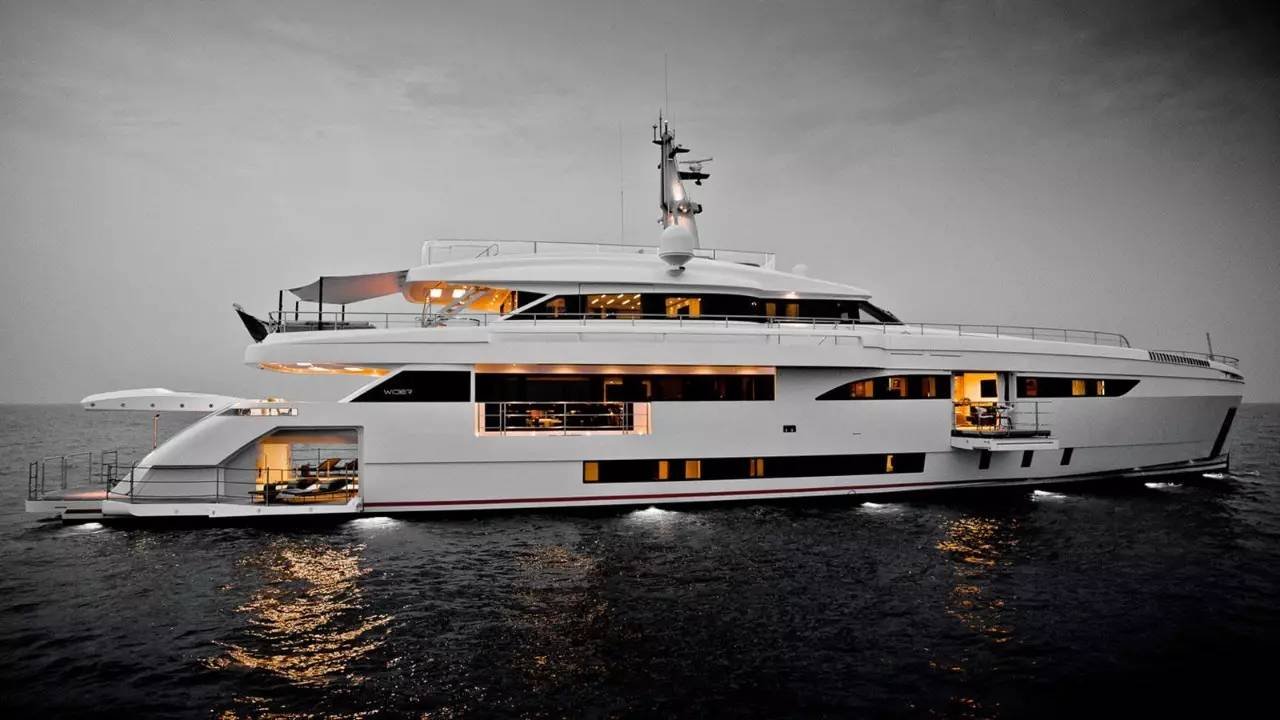yacht: (15, 100, 1245, 537)
